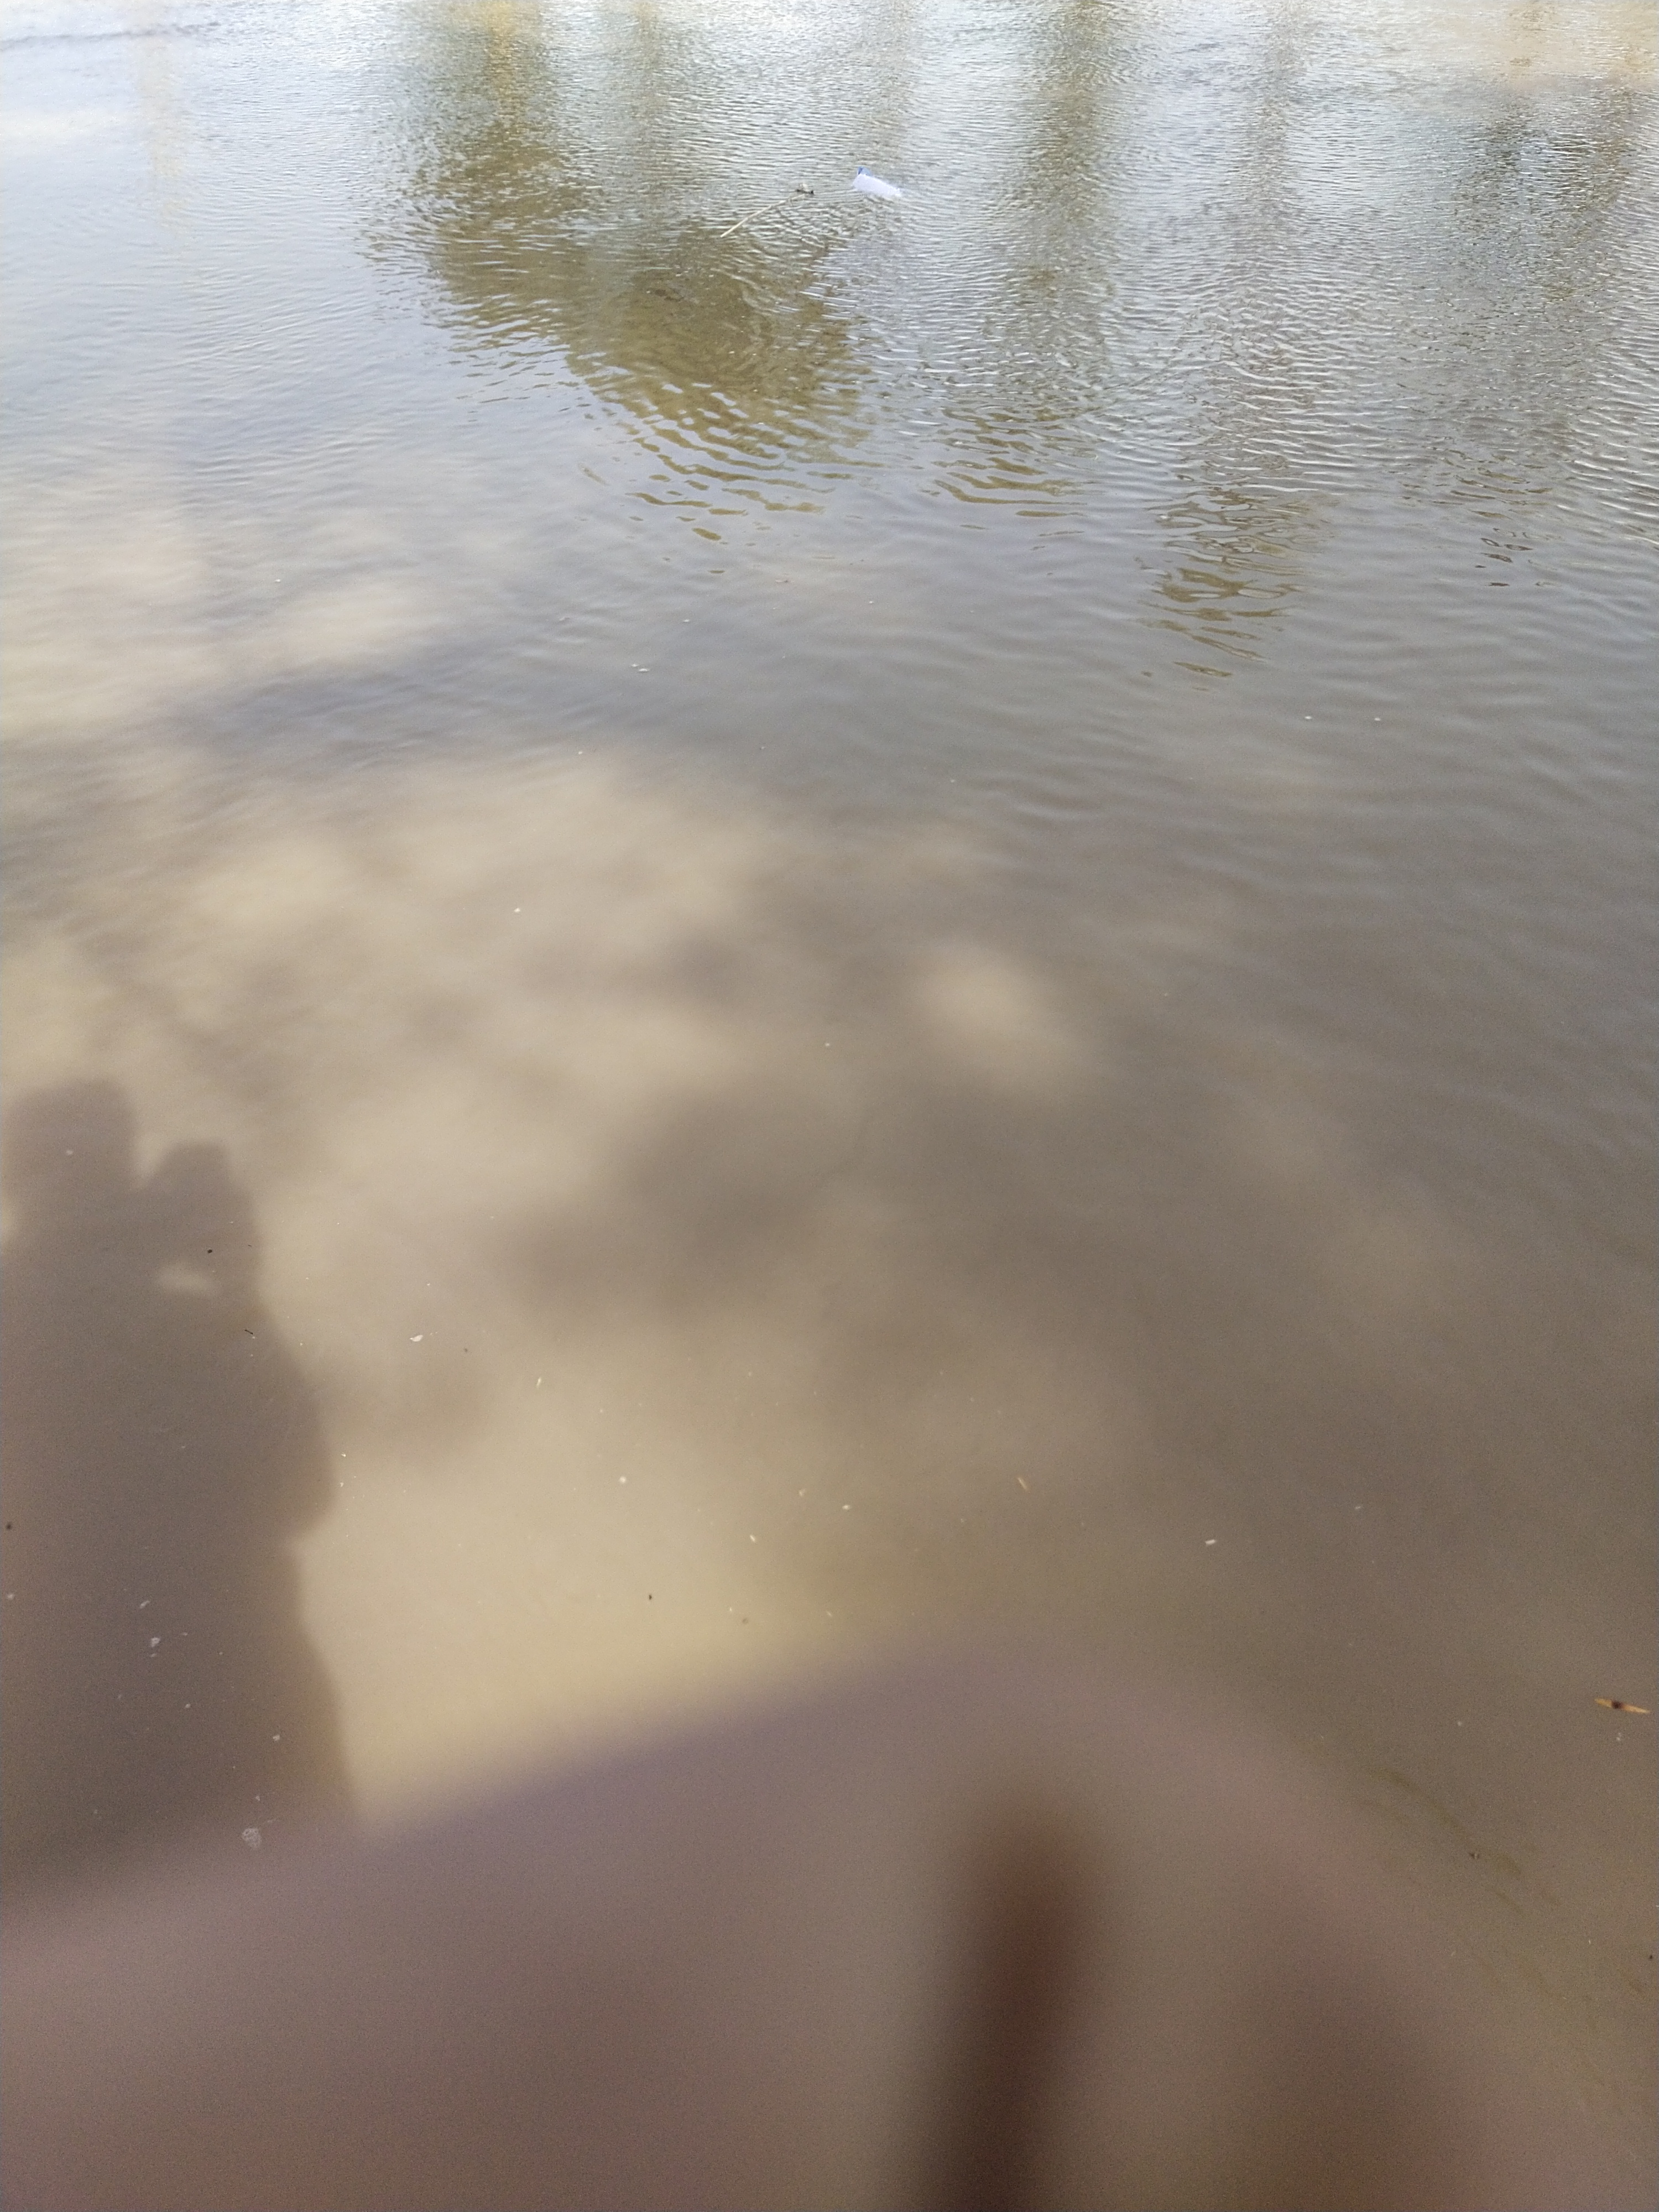Plastic Bottle: (854, 174, 897, 200)
